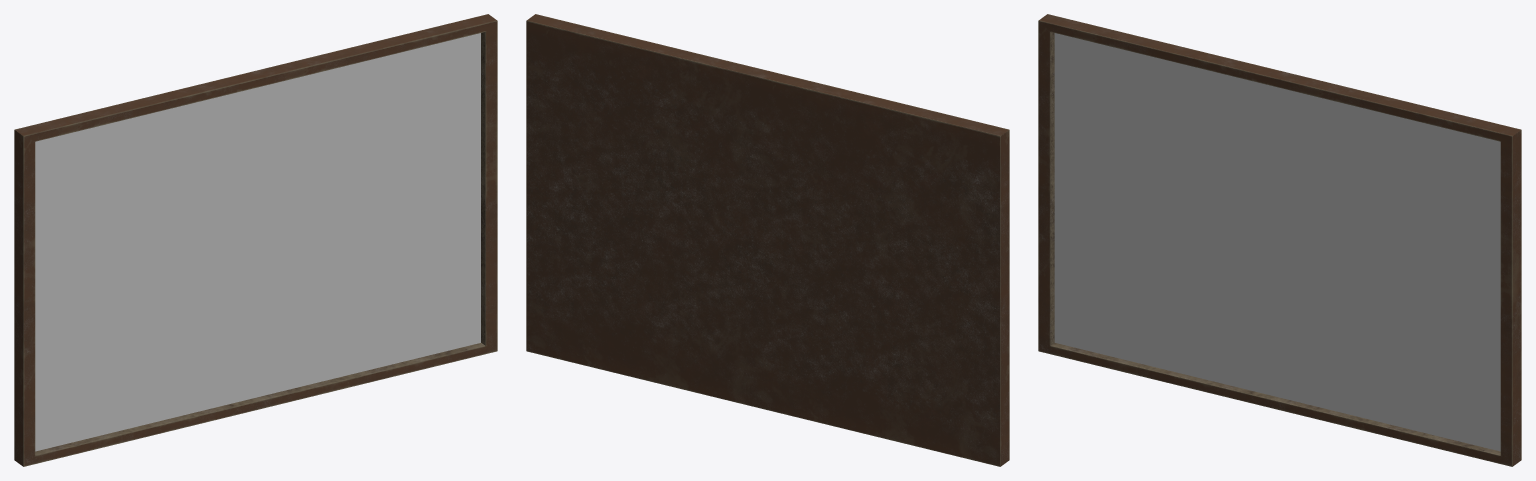
File: VX-Graph.gltf
3 views of the same model, side by side, from view 1: azimuth 30°, elevation 25°; view 2: azimuth 150°, elevation 25°; view 3: azimuth 330°, elevation 25° (orthographic).
Parts seen in each view (by area): view 1: VX-Graph; view 2: VX-Graph; view 3: VX-Graph.
Part boxes in pixels (x1,y1,x2,y2): VX-Graph: (14, 14, 497, 466); VX-Graph: (526, 14, 1009, 466); VX-Graph: (1038, 14, 1521, 466).
Bounding box in the file's own units: 3 × 2 × 0.1.
